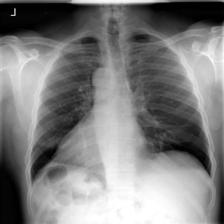normal: (25, 28, 219, 196)
